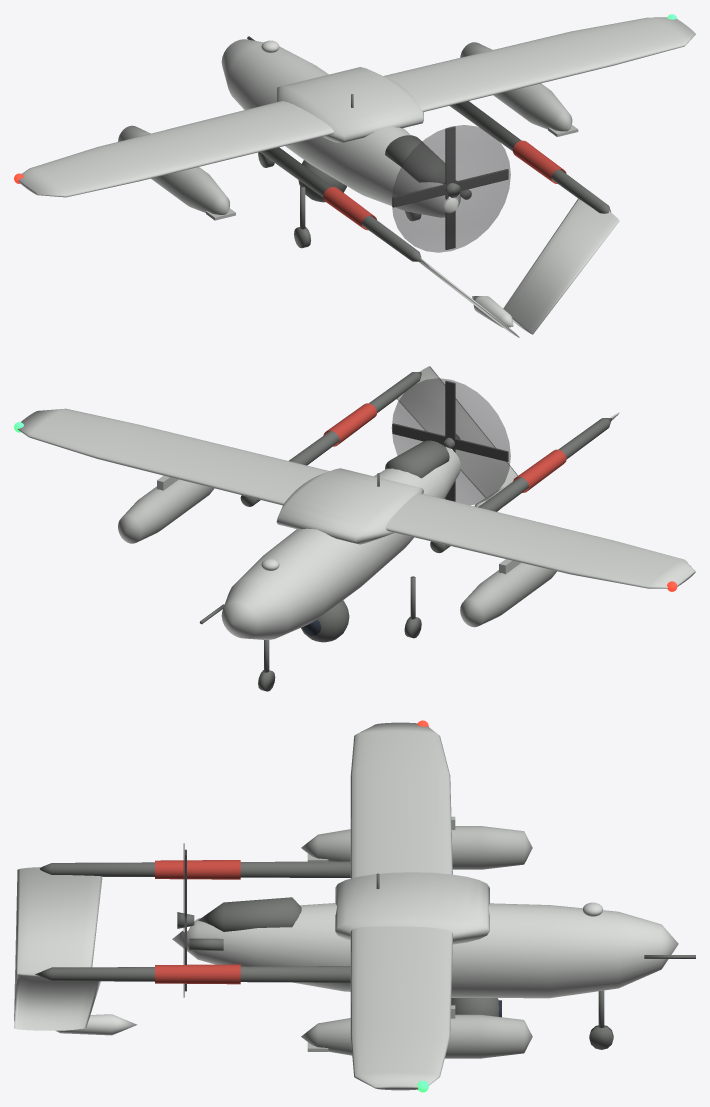
The model's file is recon-drone.glb.
The picture shows the model from 3 angles, top to bottom: view 1: azimuth 30°, elevation 25°; view 2: azimuth 150°, elevation 25°; view 3: azimuth 270°, elevation 25°; orthographic projection. The views are drawn at different scales.
Parts seen in each view (by area): view 1: Shadow, ReconPropBlur, JamPodL, JamPodR, ReconProp, JamStripe; view 2: Shadow, ReconPropBlur, JamPodL, JamPodR, ReconProp, JamStripe; view 3: Shadow, JamPodR, JamPodL, JamStripe, ReconProp.
Boxes of the visible parts, x1,y1,x2,y2 form: Shadow: (18,17,695,337); ReconPropBlur: (391,125,510,252); JamPodL: (118,125,235,220); JamPodR: (460,42,578,136); ReconProp: (392,126,508,249); JamStripe: (323,140,566,230); Shadow: (18,366,695,691); ReconPropBlur: (391,378,510,505); JamPodL: (460,559,556,627); JamPodR: (118,475,214,543); ReconProp: (392,380,508,501); JamStripe: (323,403,566,492); Shadow: (14,722,695,1090); JamPodR: (301,1005,532,1058); JamPodL: (301,816,532,869); JamStripe: (155,860,240,984); ReconProp: (177,849,194,991).
Bounding box in the file's own units: 5.03 × 1.27 × 3.97.
